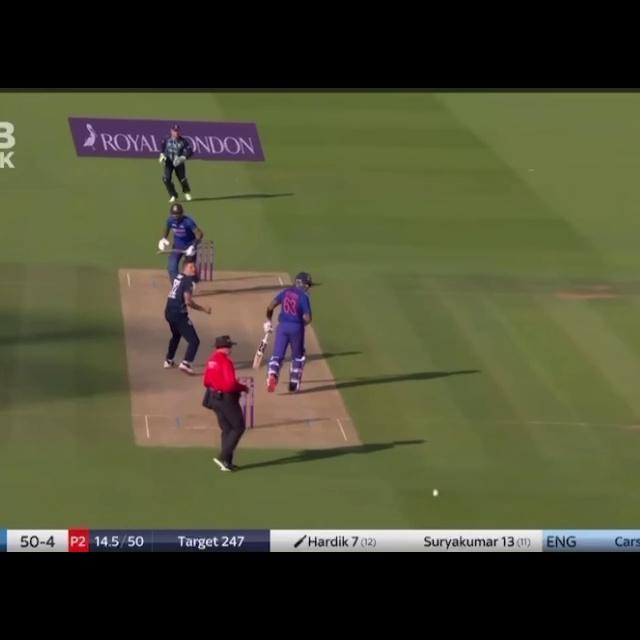umpire: (189, 331, 255, 479)
